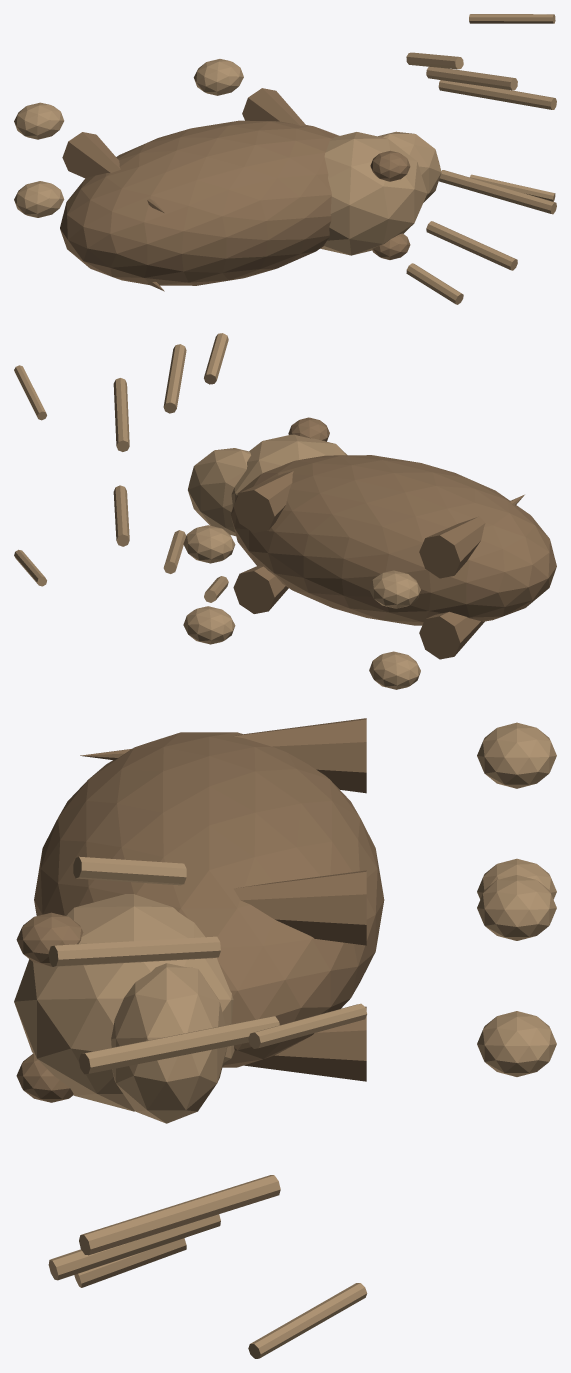
Rendered from caribou.glb.
The picture shows the model from 3 angles, top to bottom: view 1: azimuth 30°, elevation 25°; view 2: azimuth 150°, elevation 25°; view 3: azimuth 270°, elevation 25°; orthographic projection. The views are drawn at different scales.
Parts seen in each view (by area): view 1: caribou_0, caribou_1, caribou_5, caribou_15, caribou_2, caribou_21, caribou_9, caribou_4, caribou_10, caribou_6, caribou_14, caribou_20 (+5 smaller); view 2: caribou_0, caribou_2, caribou_5, caribou_1, caribou_9, caribou_3, caribou_7, caribou_4, caribou_6, caribou_8, caribou_10, caribou_21 (+5 smaller); view 3: caribou_0, caribou_1, caribou_2, caribou_9, caribou_5, caribou_15, caribou_7, caribou_21, caribou_6, caribou_10, caribou_8, caribou_20 (+10 smaller).
Part boxes in pixels (bbox=[...]): caribou_0: bbox=[60, 120, 339, 285]; caribou_1: bbox=[320, 132, 427, 255]; caribou_5: bbox=[62, 132, 164, 212]; caribou_15: bbox=[439, 170, 556, 214]; caribou_2: bbox=[378, 131, 441, 202]; caribou_21: bbox=[438, 80, 556, 109]; caribou_9: bbox=[242, 88, 305, 125]; caribou_4: bbox=[14, 181, 64, 217]; caribou_10: bbox=[193, 59, 243, 95]; caribou_6: bbox=[14, 102, 64, 139]; caribou_14: bbox=[426, 221, 517, 270]; caribou_20: bbox=[426, 66, 517, 90]; caribou_0: bbox=[230, 455, 556, 625]; caribou_2: bbox=[188, 448, 250, 536]; caribou_5: bbox=[419, 494, 524, 578]; caribou_1: bbox=[231, 434, 347, 521]; caribou_9: bbox=[233, 471, 293, 533]; caribou_3: bbox=[419, 611, 484, 659]; caribou_7: bbox=[233, 566, 288, 613]; caribou_4: bbox=[369, 651, 420, 689]; caribou_6: bbox=[369, 570, 420, 608]; caribou_8: bbox=[183, 606, 235, 644]; caribou_10: bbox=[183, 525, 235, 563]; caribou_21: bbox=[113, 378, 129, 451]; caribou_0: bbox=[34, 732, 384, 1067]; caribou_1: bbox=[14, 894, 234, 1111]; caribou_2: bbox=[111, 963, 227, 1123]; caribou_9: bbox=[233, 870, 366, 945]; caribou_5: bbox=[80, 718, 366, 793]; caribou_15: bbox=[79, 1175, 280, 1255]; caribou_7: bbox=[244, 1006, 366, 1081]; caribou_21: bbox=[79, 1016, 279, 1074]; caribou_6: bbox=[477, 722, 556, 788]; caribou_10: bbox=[477, 875, 556, 940]; caribou_8: bbox=[477, 1011, 556, 1076]; caribou_20: bbox=[48, 936, 220, 966].
Size of the model in its own units: 4.03 by 1.9 by 2.17.
